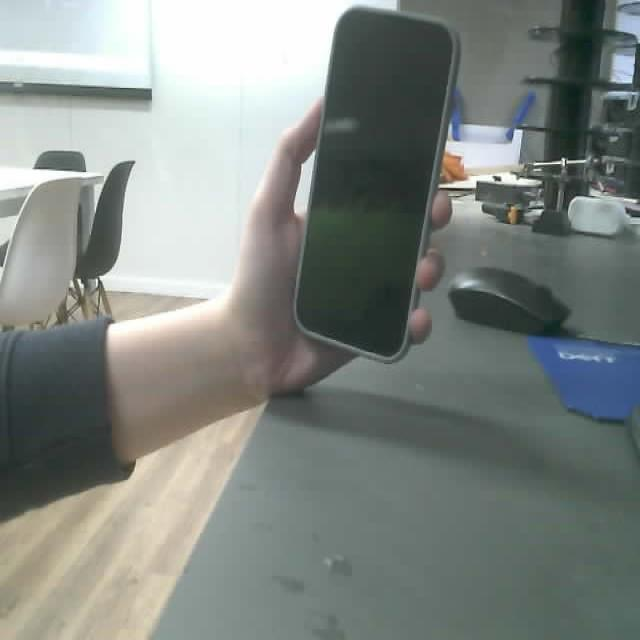phone: (293, 3, 462, 365)
